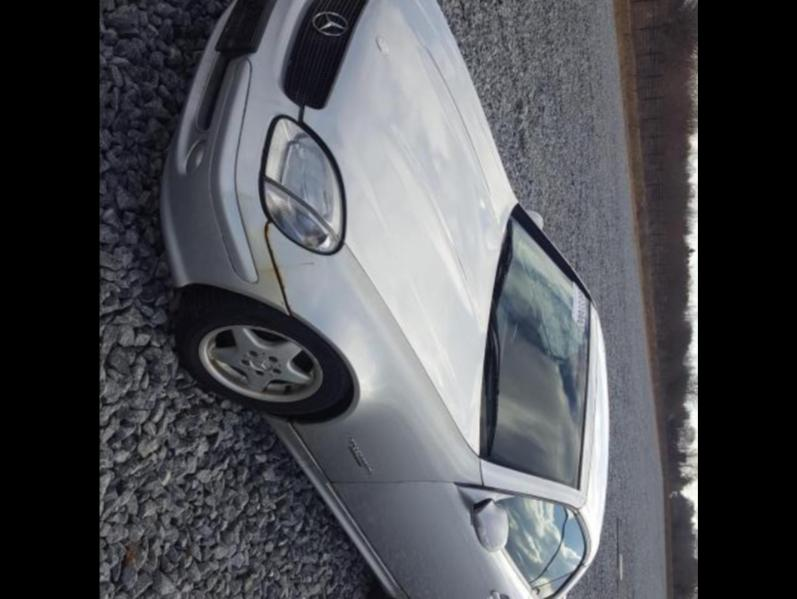Broken part: (296, 106, 304, 122)
Corrosion: (260, 221, 291, 314), (209, 360, 242, 384)
Missing part: (221, 0, 266, 44)
Scratch: (301, 262, 315, 265)
